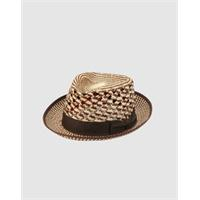hat: (42, 72, 152, 142)
